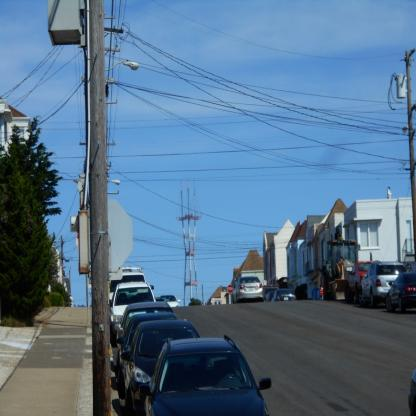Car: (111, 266, 272, 416), (361, 262, 408, 309), (385, 272, 416, 312), (345, 260, 372, 305), (235, 277, 266, 303), (277, 286, 299, 302)
